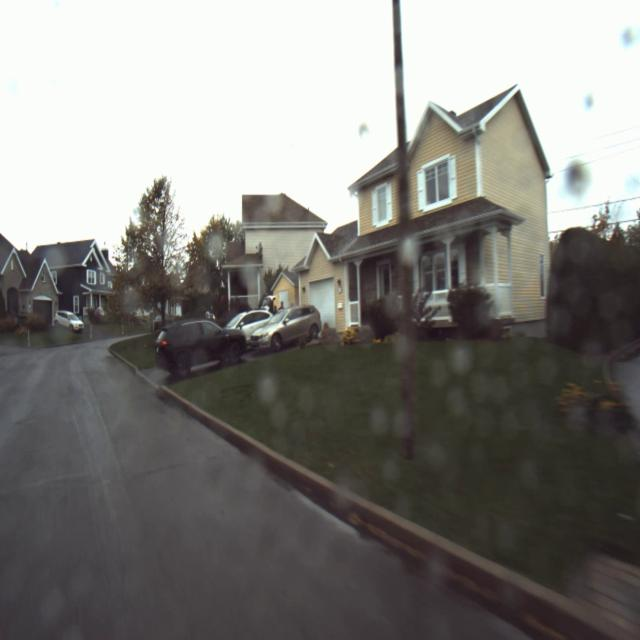car: (144, 305, 252, 376)
